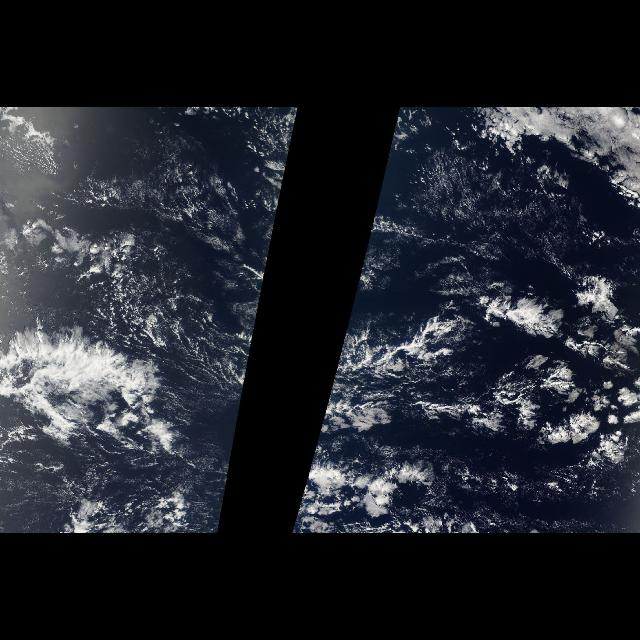Fish: (318, 306, 542, 440)
Flower: (475, 270, 639, 484)
Sugar: (400, 144, 614, 286), (70, 153, 258, 249)
